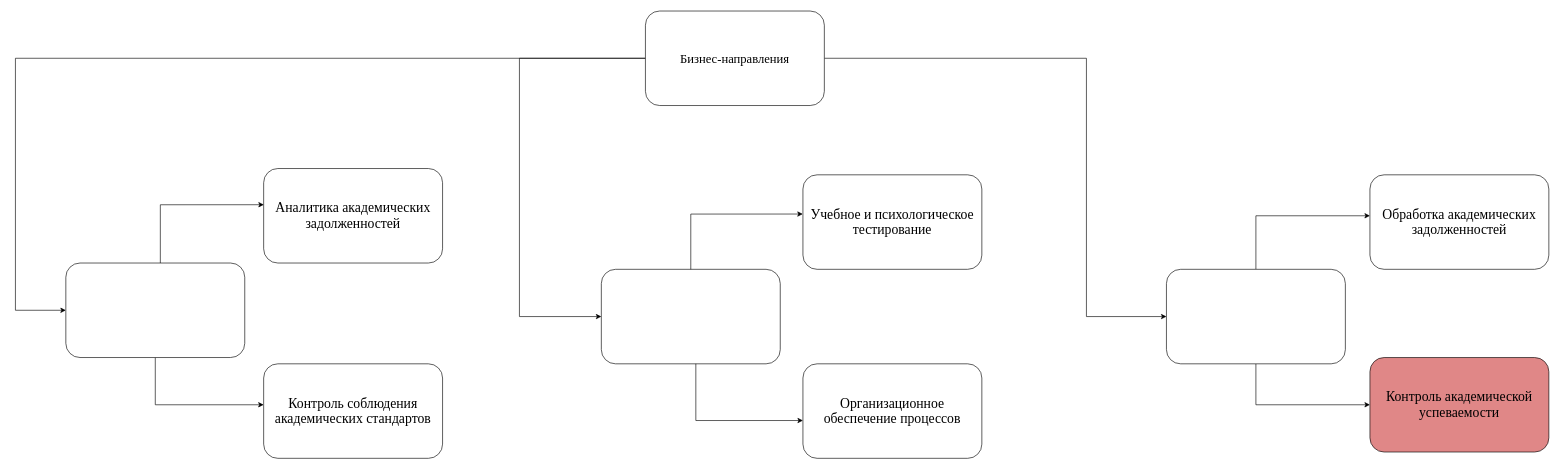
Some shapes in this 1560 by 469 pixel diagram are drawn without their labels. The centre of each missing label's shape, as x and y in pixels:
Отдел информационного и документационного сопровождения обучающихся: (1255,316)
Отдел мониторинга академических задолженностей: (155,310)
Отдел организации учебного процесса: (690,316)
